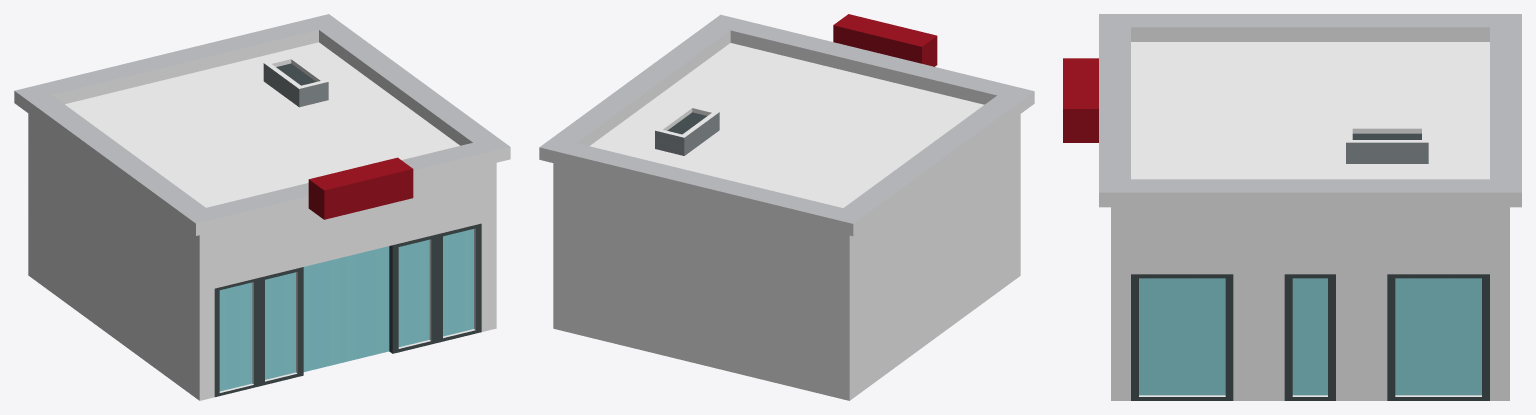
Rendered from small_shop_3.fbx.
The picture shows the model from 3 angles, left to right: view 1: azimuth 30°, elevation 25°; view 2: azimuth 150°, elevation 25°; view 3: azimuth 270°, elevation 25°; orthographic projection. The views are drawn at different scales.
Visible parts, largest first — view 1: Cube; view 2: Cube; view 3: Cube.
Part boxes in pixels (x1,y1,x2,y2): Cube: [14, 14, 510, 400]; Cube: [539, 14, 1034, 400]; Cube: [1063, 14, 1521, 400].
Size of the model in its own units: 1060 by 644 by 1150.
